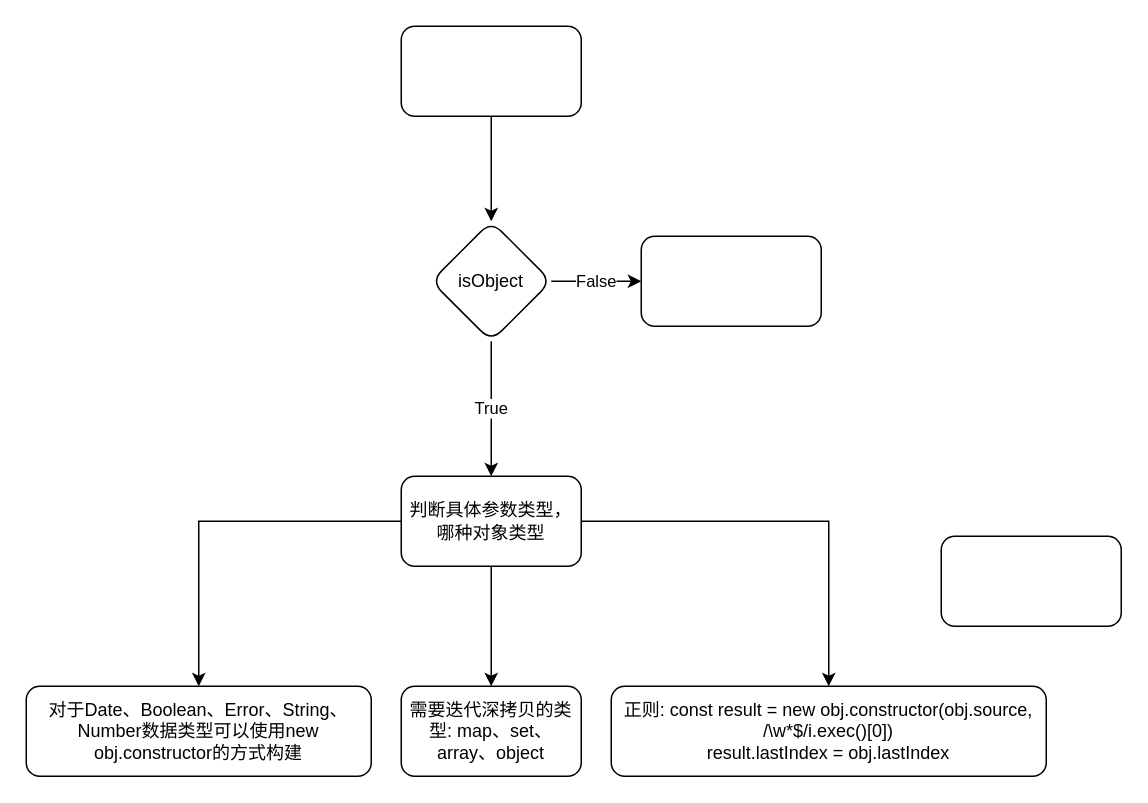
Some shapes in this 1148 by 803 pixel diagram are drawn without their labels. The box of each missing label's shape, as (x1, y1, x2, y2) in pixels:
return obj: (640, 235, 821, 326)
开始 入参: obj: (400, 25, 581, 116)
